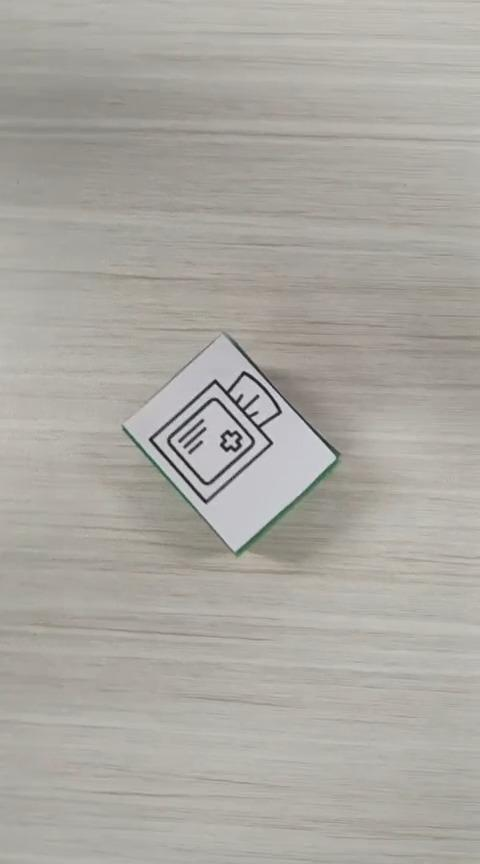Gauze: (120, 329, 340, 557)
